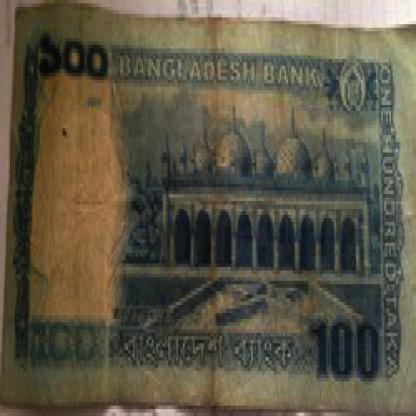one hundred taka: (30, 21, 111, 97), (313, 305, 381, 388)
